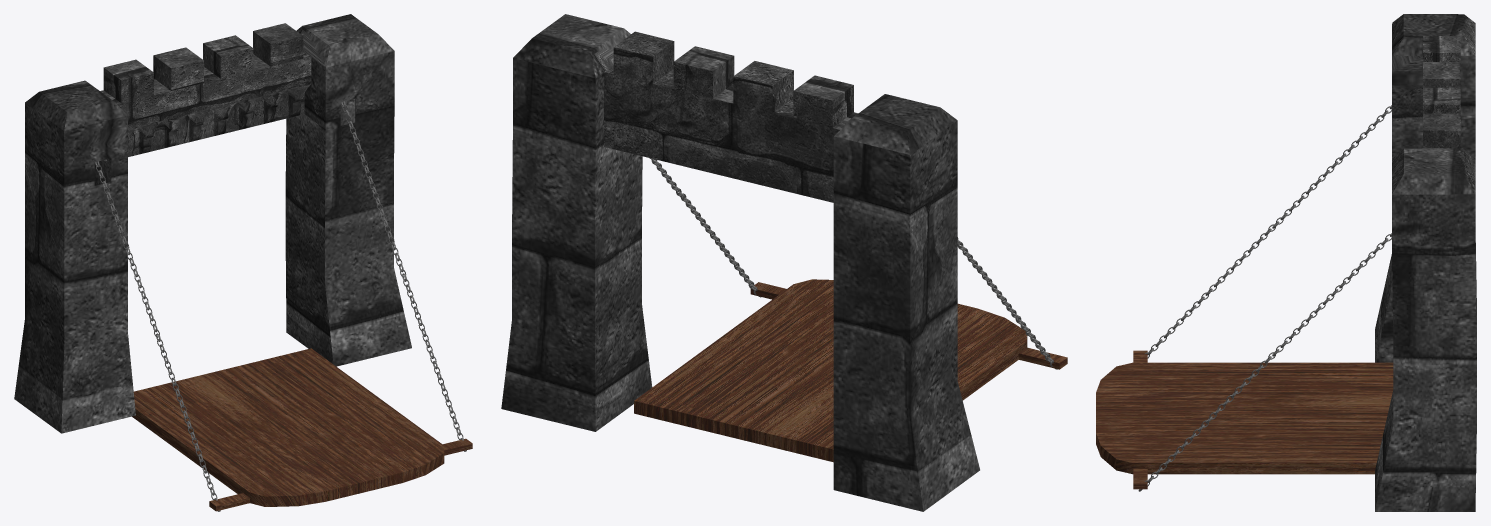
Rendered from Drawbridge_v0.8.fbx.
3 views of the same model, side by side, from view 1: azimuth 30°, elevation 25°; view 2: azimuth 150°, elevation 25°; view 3: azimuth 270°, elevation 25° (orthographic). The views are drawn at different scales.
Parts seen in each view (by area): view 1: mps_castlewall1:Wall, mps_castlewall:Door, mps_castlewall:mps_castlewall:Chains; view 2: mps_castlewall1:Wall, mps_castlewall:Door, mps_castlewall:mps_castlewall:Chains; view 3: mps_castlewall1:Wall, mps_castlewall:Door, mps_castlewall:mps_castlewall:Chains.
Part boxes in pixels (x1,y1,x2,y2): mps_castlewall1:Wall: (14, 14, 411, 433); mps_castlewall:Door: (132, 348, 472, 511); mps_castlewall:mps_castlewall:Chains: (95, 101, 466, 511); mps_castlewall1:Wall: (501, 14, 979, 511); mps_castlewall:Door: (634, 279, 1067, 462); mps_castlewall:mps_castlewall:Chains: (649, 158, 1057, 369); mps_castlewall1:Wall: (1375, 14, 1476, 511); mps_castlewall:Door: (1096, 350, 1393, 489); mps_castlewall:mps_castlewall:Chains: (1138, 105, 1391, 491).
Size of the model in its own units: 14.79 by 13.1 by 13.08.
